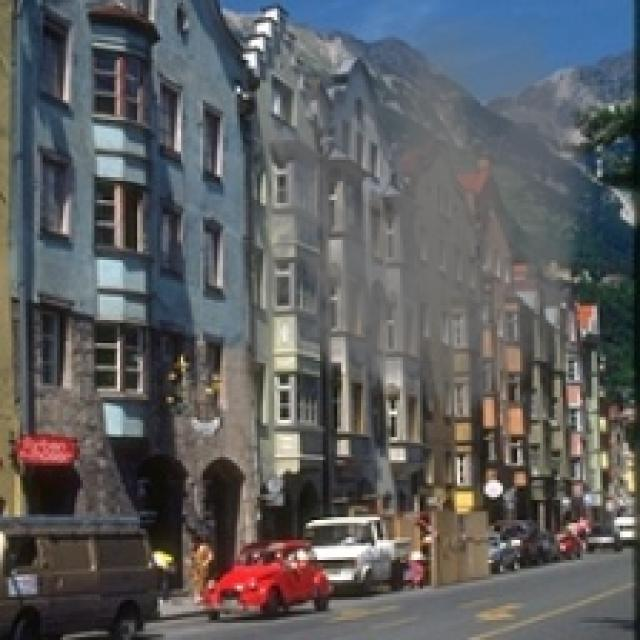smoke: (240, 17, 597, 440)
